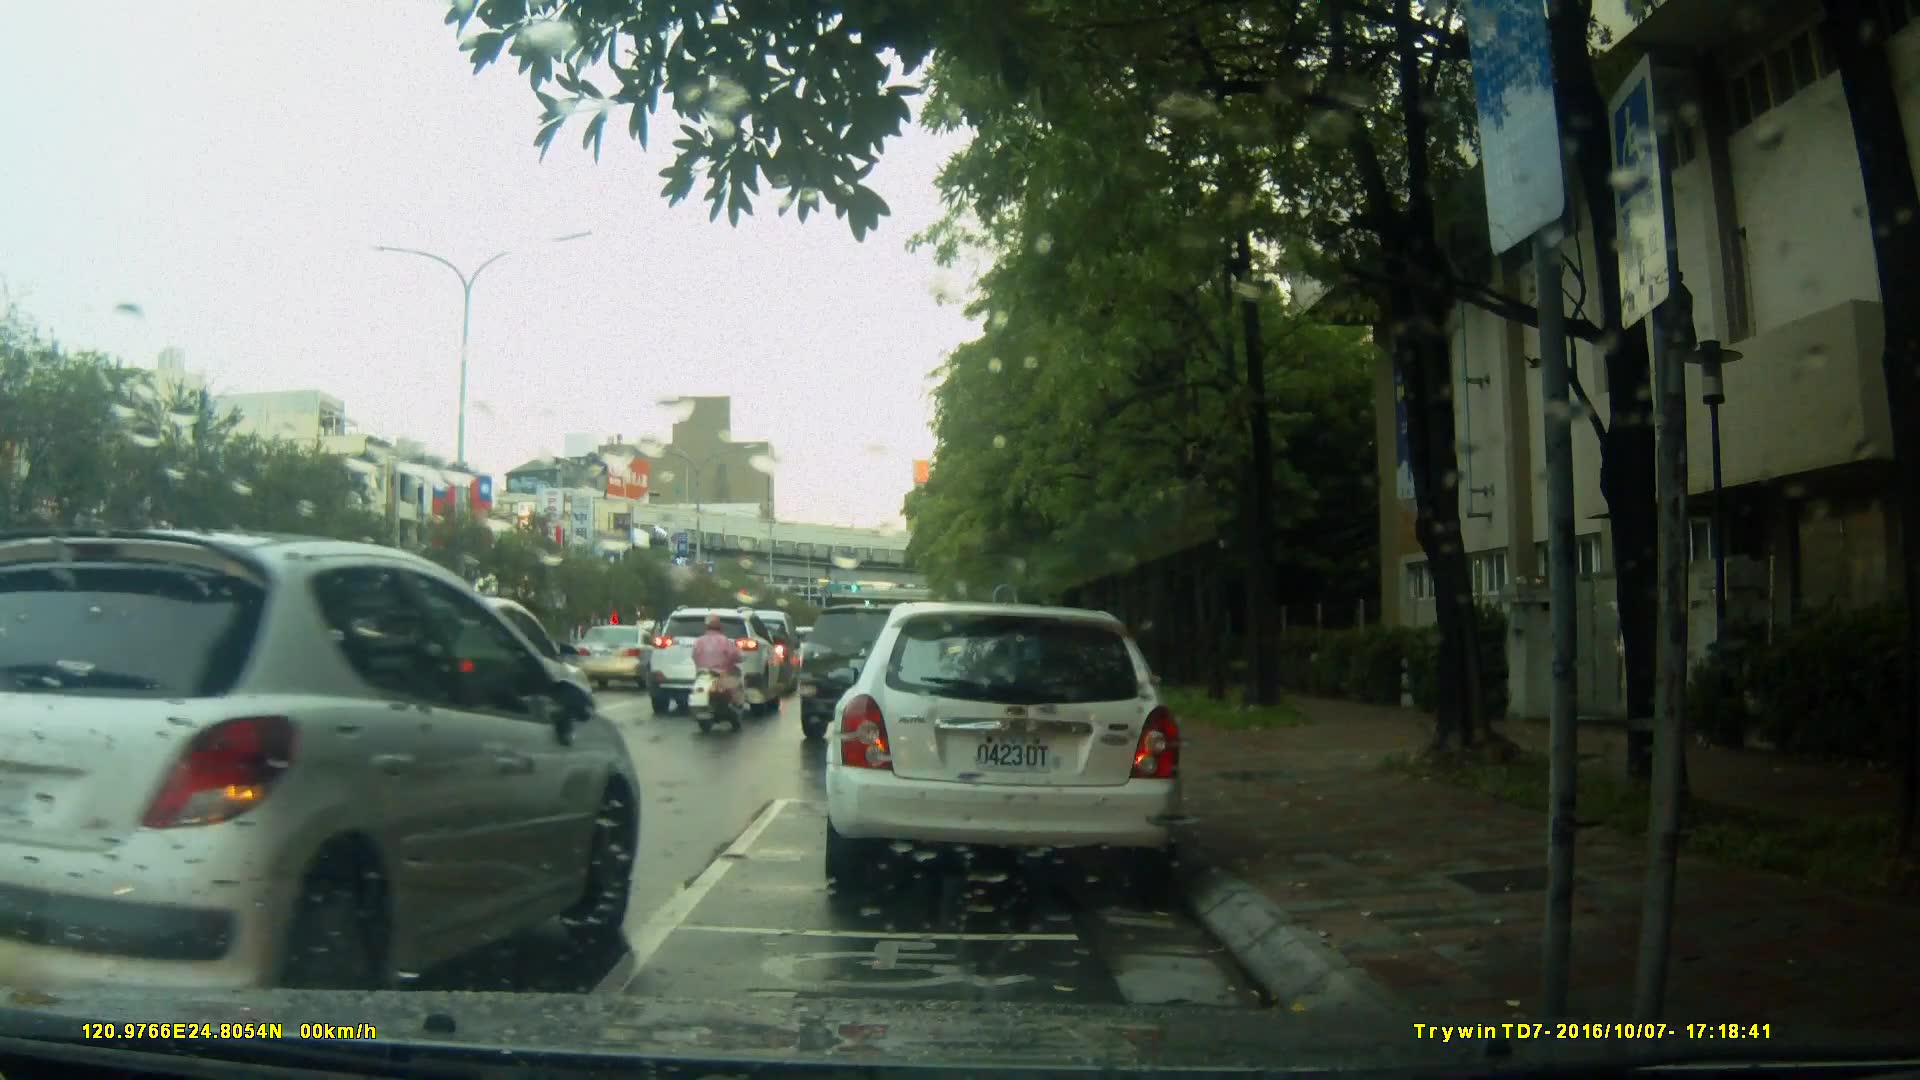rider: (685, 608, 746, 739)
vehicle: (1, 523, 659, 994), (820, 602, 1188, 898), (796, 602, 1005, 752), (648, 607, 785, 720), (564, 623, 669, 692)
